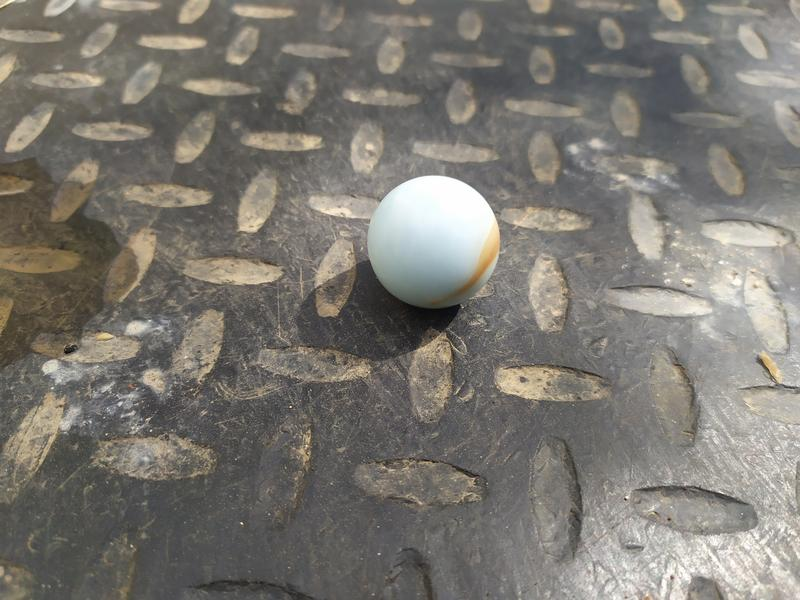Warning: (364, 171, 504, 312)
